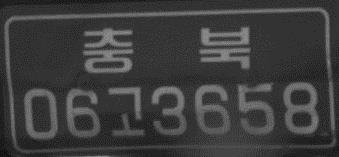0: (23, 85, 58, 142)
3: (149, 85, 187, 138)
5: (234, 78, 275, 137)
6: (192, 80, 232, 143), (63, 85, 103, 142)
8: (281, 78, 321, 138)
고: (104, 83, 146, 137)
충북_D: (75, 20, 257, 74)
